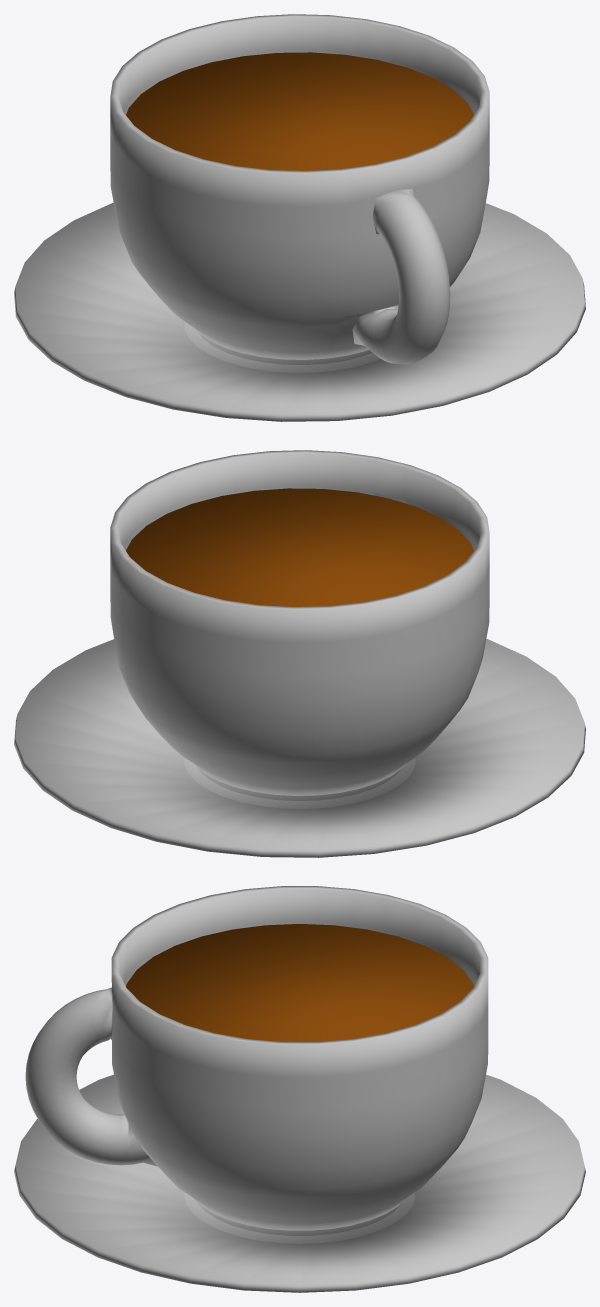
Rendered from Kaffekop.fbx.
3 views of the same model, one above another, from view 1: azimuth 30°, elevation 25°; view 2: azimuth 150°, elevation 25°; view 3: azimuth 270°, elevation 25° (orthographic).
Visible parts, largest first — view 1: Kop, Underkop; view 2: Kop, Underkop; view 3: Kop, Underkop.
Boxes of the visible parts, x1=… form: Kop: x1=110, y1=14, x2=489, y2=365; Underkop: x1=14, y1=203, x2=585, y2=421; Kop: x1=110, y1=450, x2=489, y2=801; Underkop: x1=14, y1=639, x2=585, y2=857; Kop: x1=25, y1=886, x2=488, y2=1235; Underkop: x1=14, y1=1074, x2=585, y2=1292.
Size of the model in its own units: 33.69 by 15.65 by 33.69.
